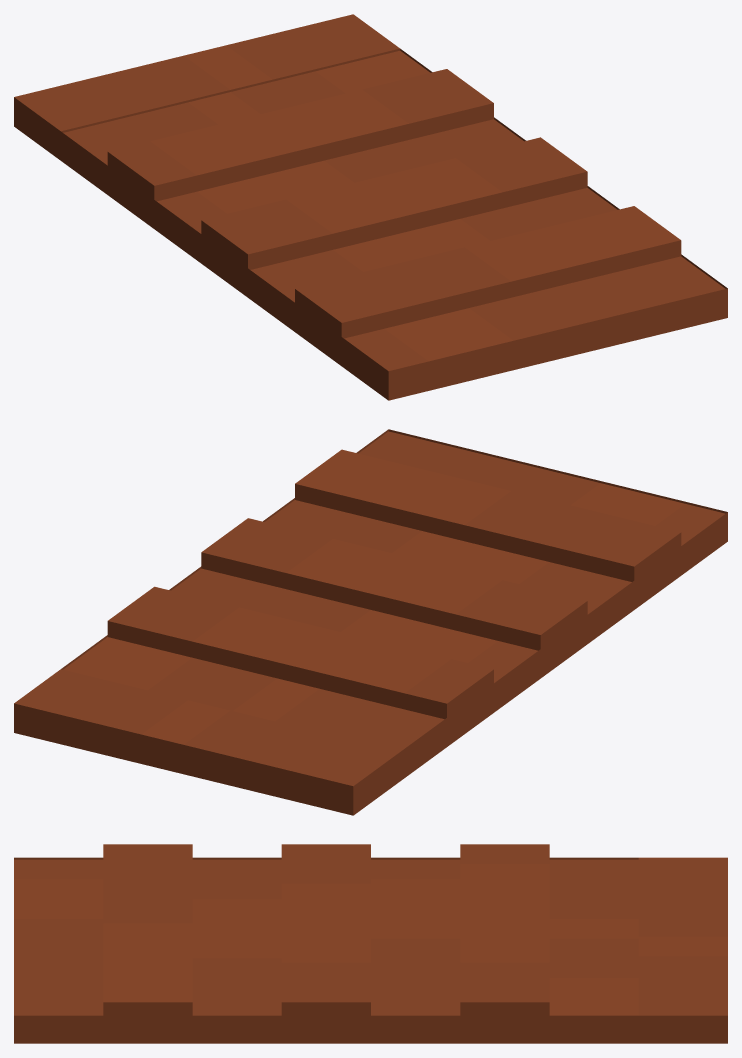
The model's file is port2.fbx.
The picture shows the model from 3 angles, top to bottom: view 1: azimuth 30°, elevation 25°; view 2: azimuth 150°, elevation 25°; view 3: azimuth 270°, elevation 25°; orthographic projection. The views are drawn at different scales.
Visible parts, largest first — view 1: Plane; view 2: Plane; view 3: Plane.
Part boxes in pixels (x1,y1,x2,y2): Plane: [14, 14, 727, 400]; Plane: [14, 429, 727, 815]; Plane: [14, 844, 727, 1043].
Size of the model in its own units: 1.3 by 0.1591 by 2.49.
